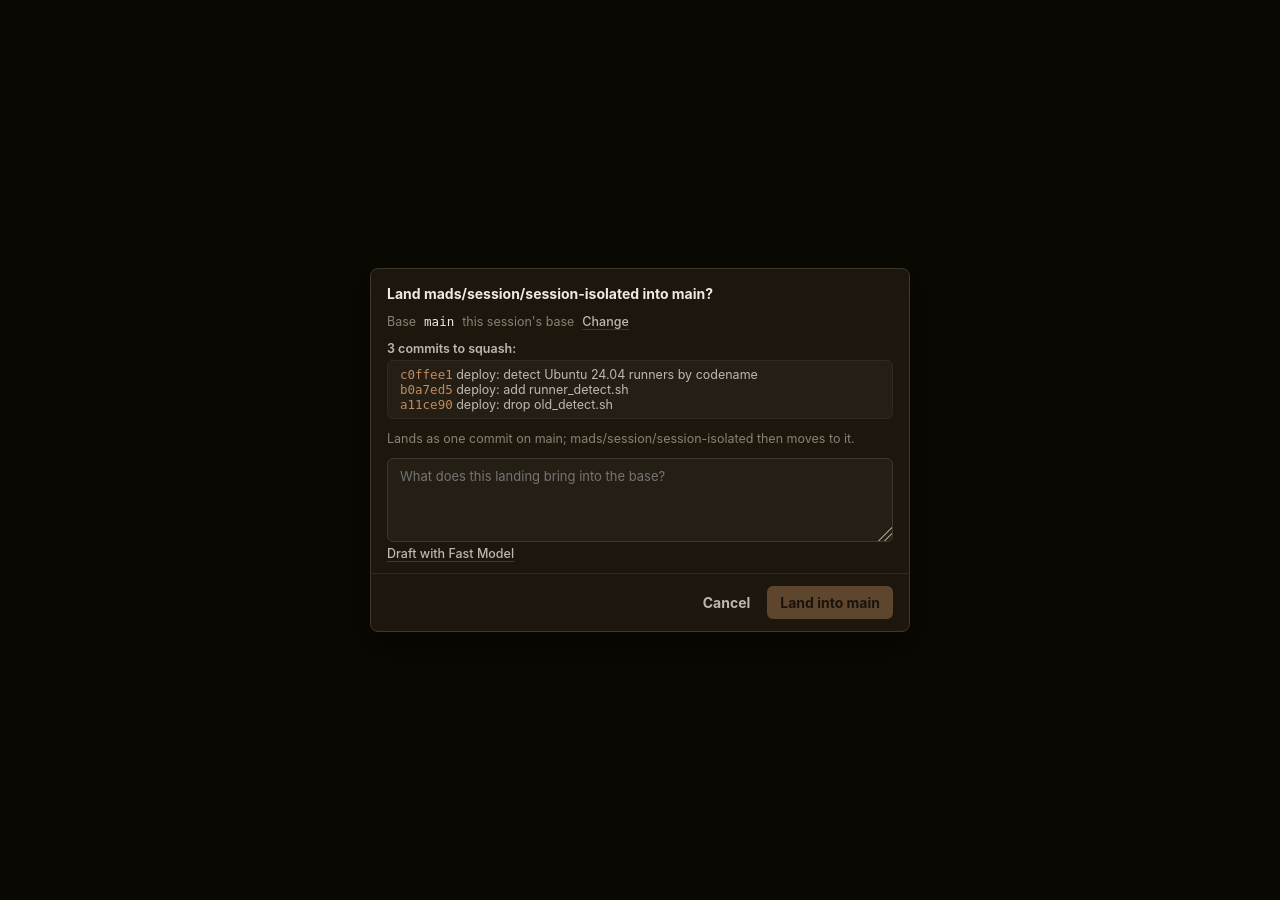
Test case: LandDialog (COMMIT-LAND-PUSH D12) › changes the base from the branches it could land into, and reads the branch again
Later steps or results of the test are not shown.
Click the button "Change". click: (606, 322)
box: [582, 314, 629, 329]
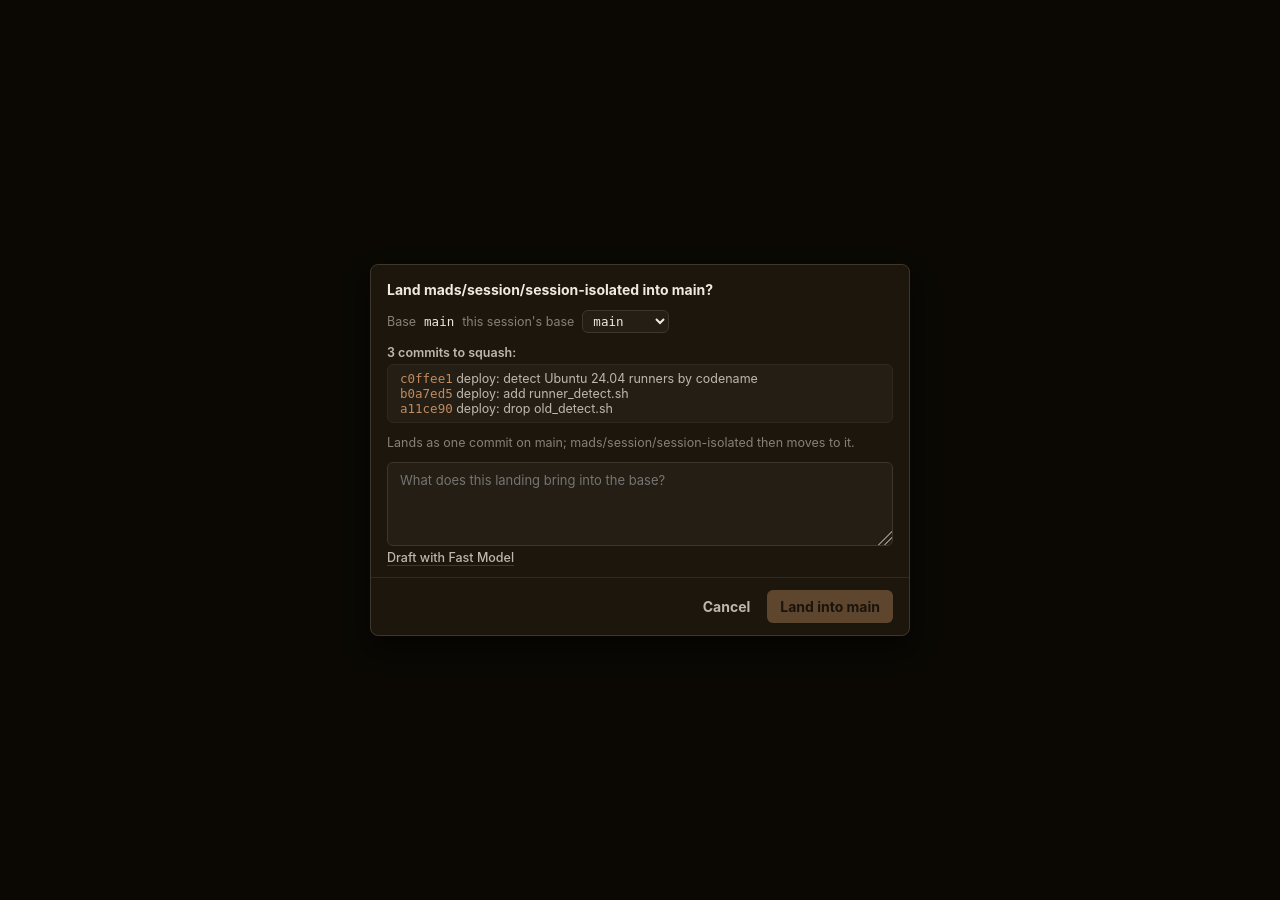
Select "release" in the dropdown named "Base branch". click: (626, 322)
box: [582, 310, 669, 333]
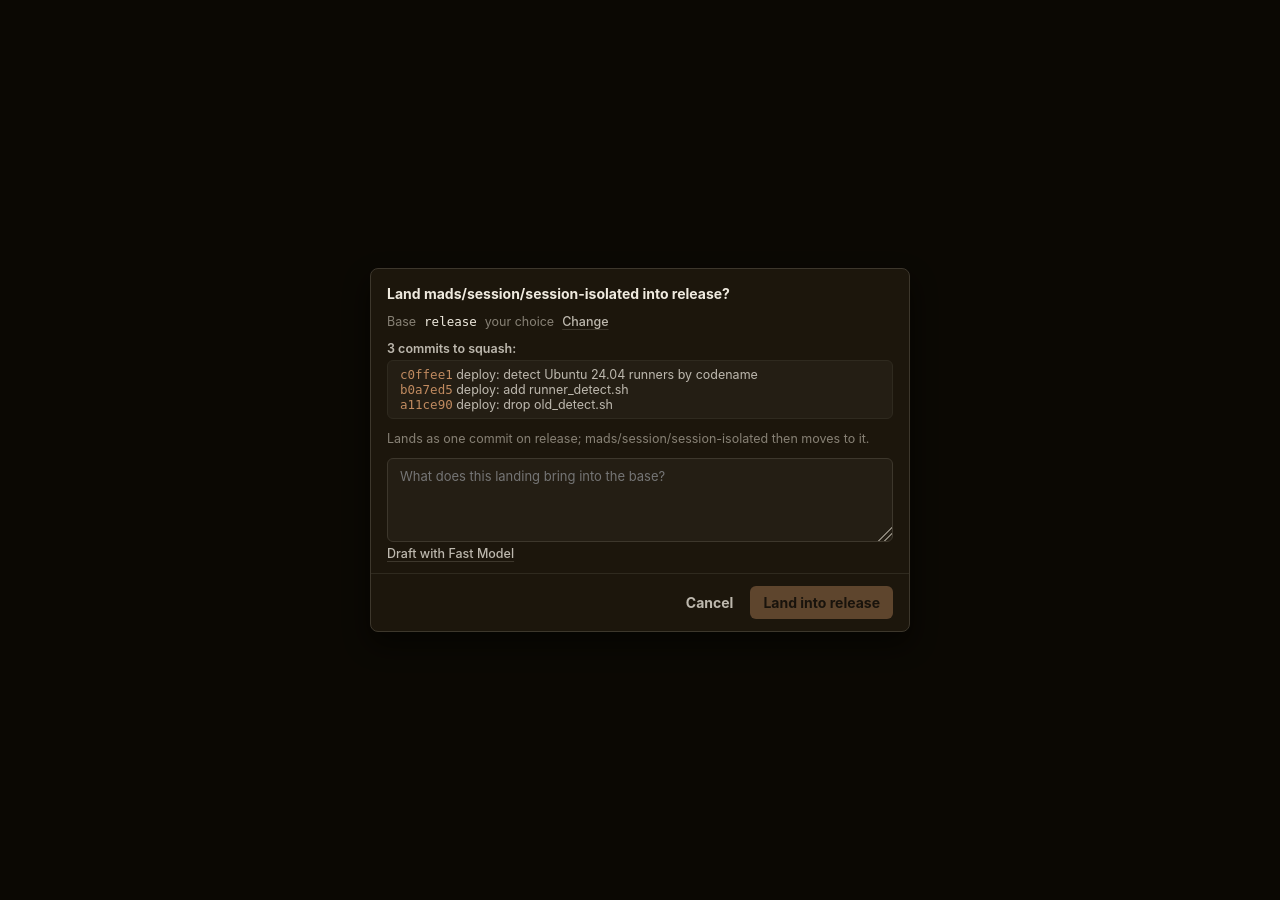
Now the element with test id "land-base" shows "your choice", box [485, 314, 554, 329]
